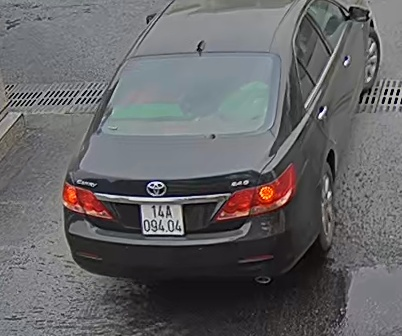vehicle plate: (136, 200, 187, 238)
